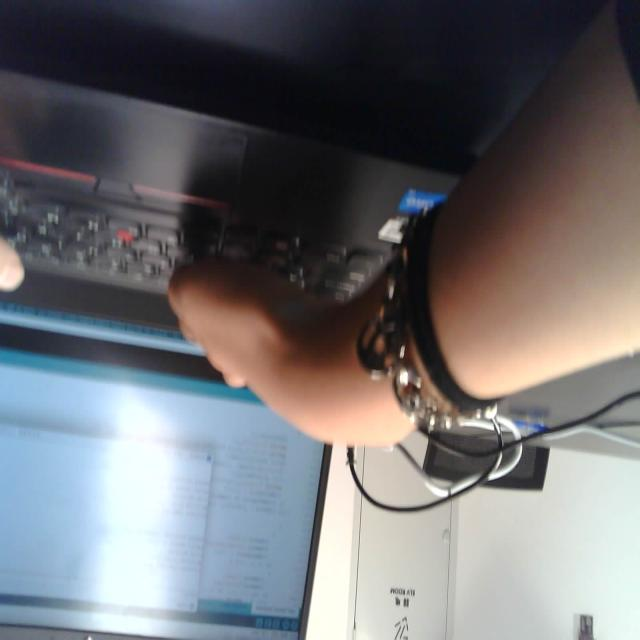keyboard-with-hands: (0, 65, 490, 354)
